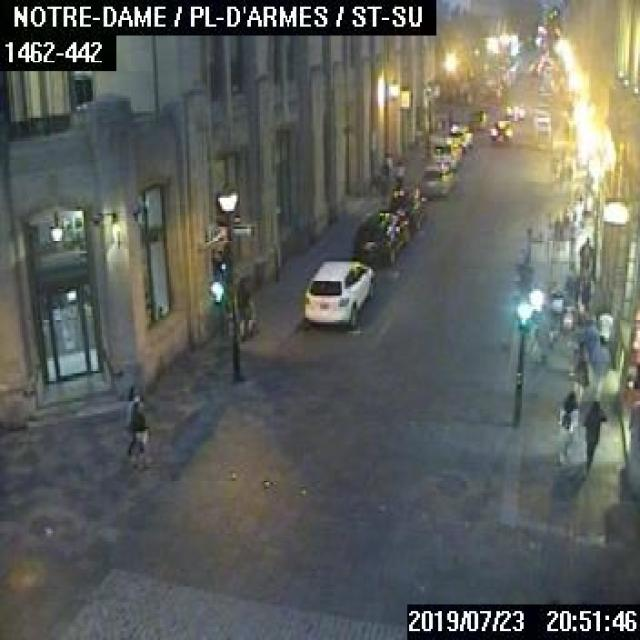pedestrian: (567, 336, 593, 406), (553, 390, 578, 460), (581, 397, 606, 467), (123, 394, 151, 454), (576, 235, 592, 273)
vehicle: (302, 257, 372, 329), (351, 210, 412, 268), (386, 185, 426, 228), (418, 160, 455, 199), (485, 114, 513, 142)
